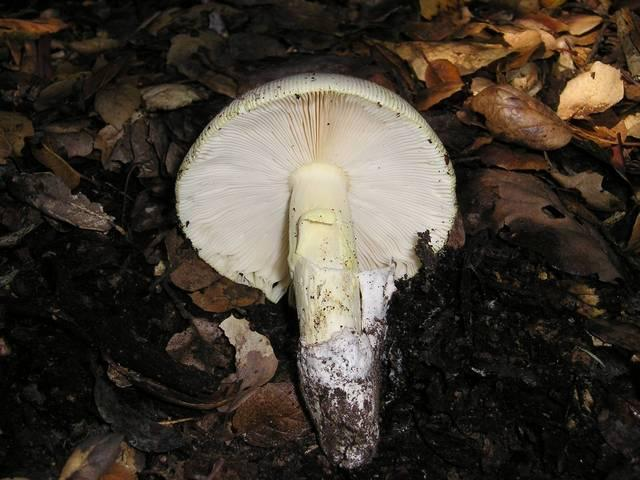edible_mushroom: (173, 70, 458, 470)
